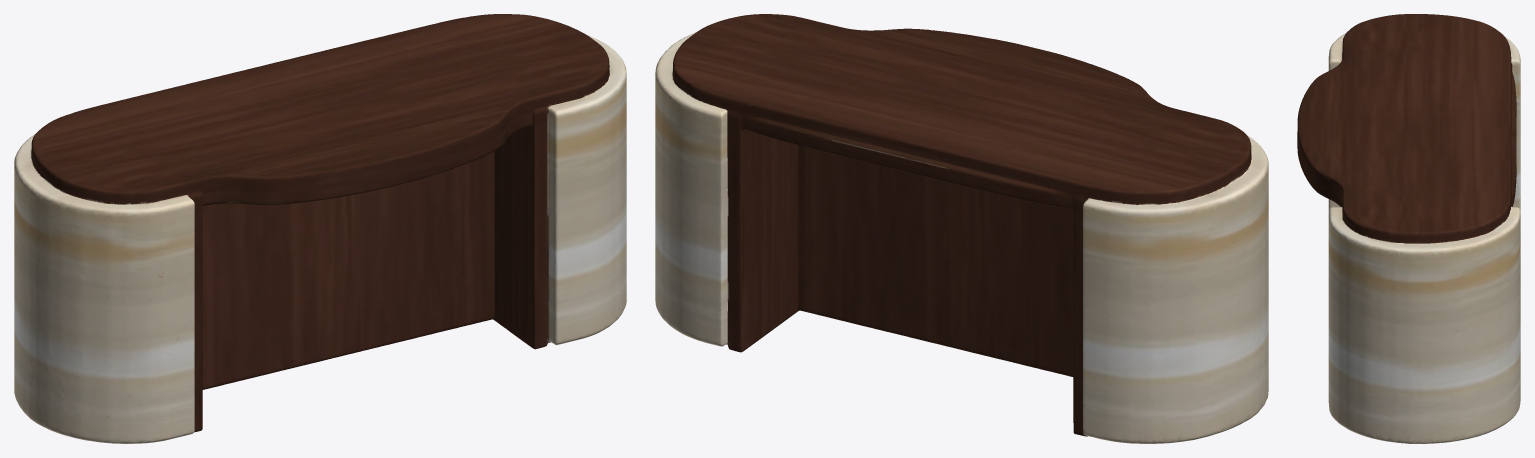
Rendered from Contemporary Walnut and Onyx Console Desk [9lbUej].glb.
3 renders of one model, left to right at view 1: azimuth 30°, elevation 25°; view 2: azimuth 150°, elevation 25°; view 3: azimuth 270°, elevation 25°, orthographic. The views are drawn at different scales.
Visible parts, largest first — view 1: world; view 2: world; view 3: world.
Part boxes in pixels (x1,y1,x2,y2): world: (14, 14, 626, 443); world: (655, 14, 1268, 443); world: (1297, 14, 1520, 443).
Size of the model in its own units: 1 by 0.4161 by 0.4031.
Materials: 1 (1 with a texture image).
